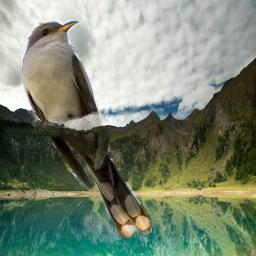Cuckoo: (21, 20, 152, 238)
